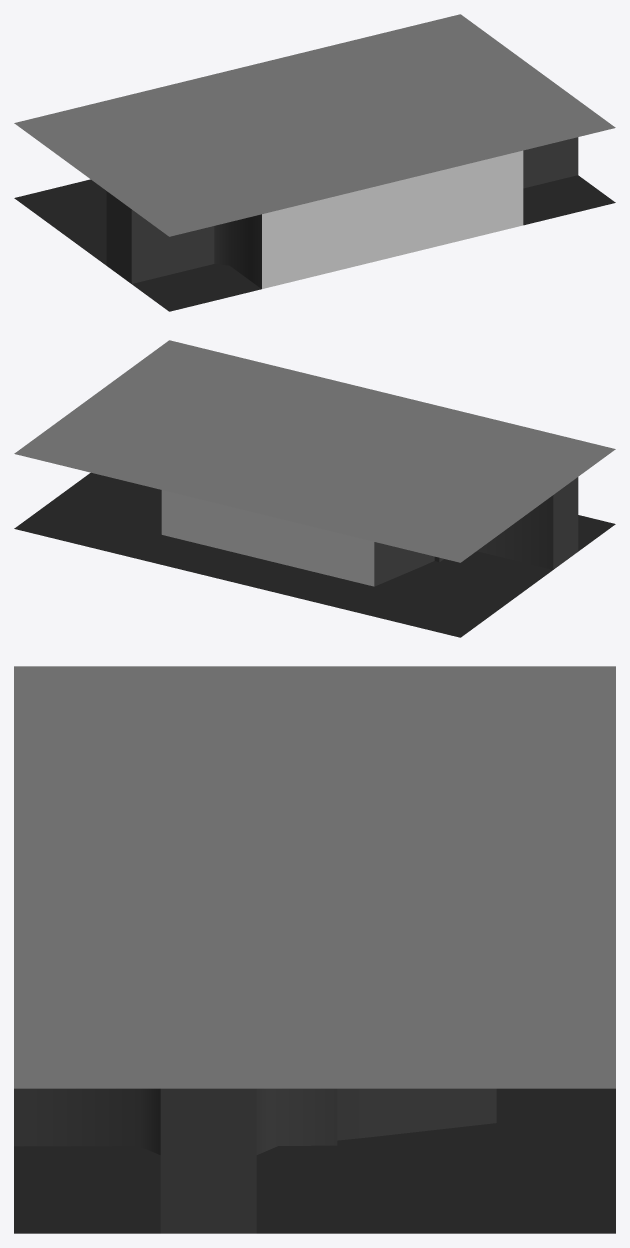
File: gnuchanos show studio.glb
3 views of the same model, one above another, from view 1: azimuth 30°, elevation 25°; view 2: azimuth 150°, elevation 25°; view 3: azimuth 270°, elevation 25° (orthographic). The views are drawn at different scales.
Parts seen in each view (by area): view 1: level; view 2: level, green_screen; view 3: level.
Part boxes in pixels (box(x1,y1,x2,y2)): level: box(14, 14, 615, 311); level: box(14, 340, 615, 637); green_screen: box(161, 490, 374, 586); level: box(14, 666, 615, 1233).
Bounding box in the file's own units: 30.02 × 4.81 × 18.09.
Materials: 3 (1 with a texture image).
